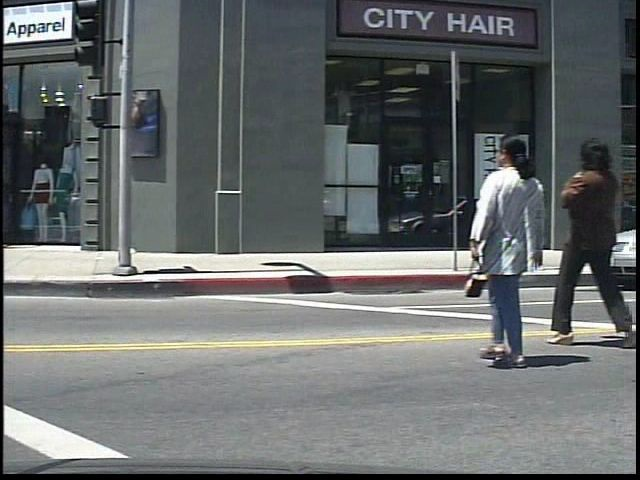person: (479, 121, 559, 370), (557, 125, 634, 351)
